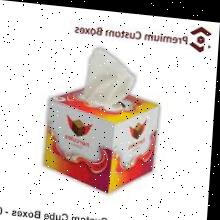cube: (46, 85, 162, 195)
